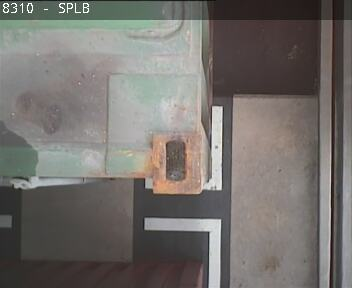groundmarker_1: (143, 104, 222, 288)
